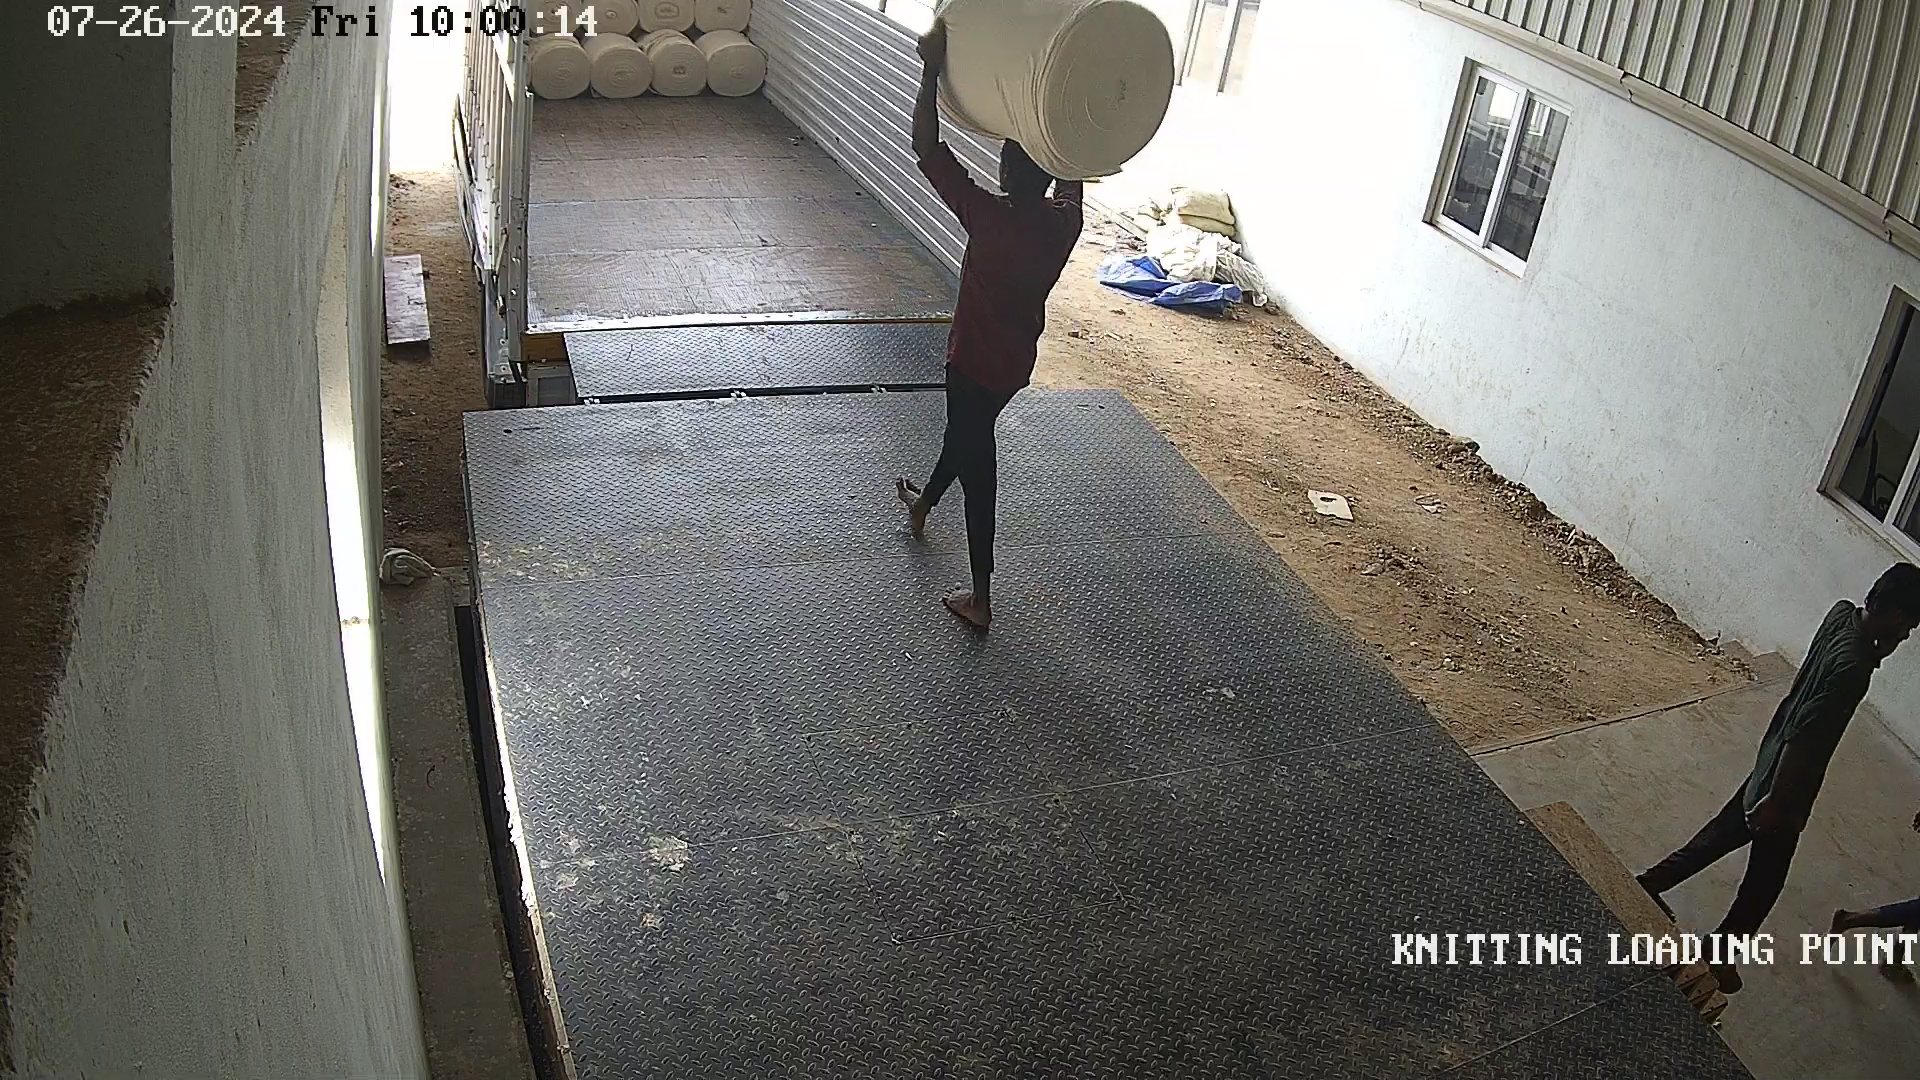bag: (909, 4, 1185, 186)
